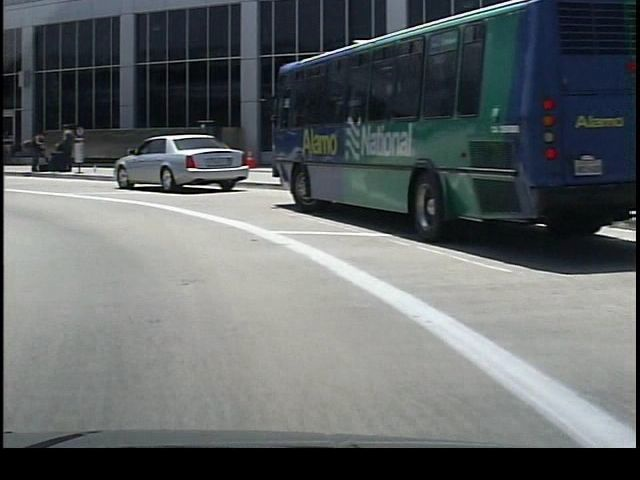person: (17, 125, 46, 179), (51, 123, 71, 177)
